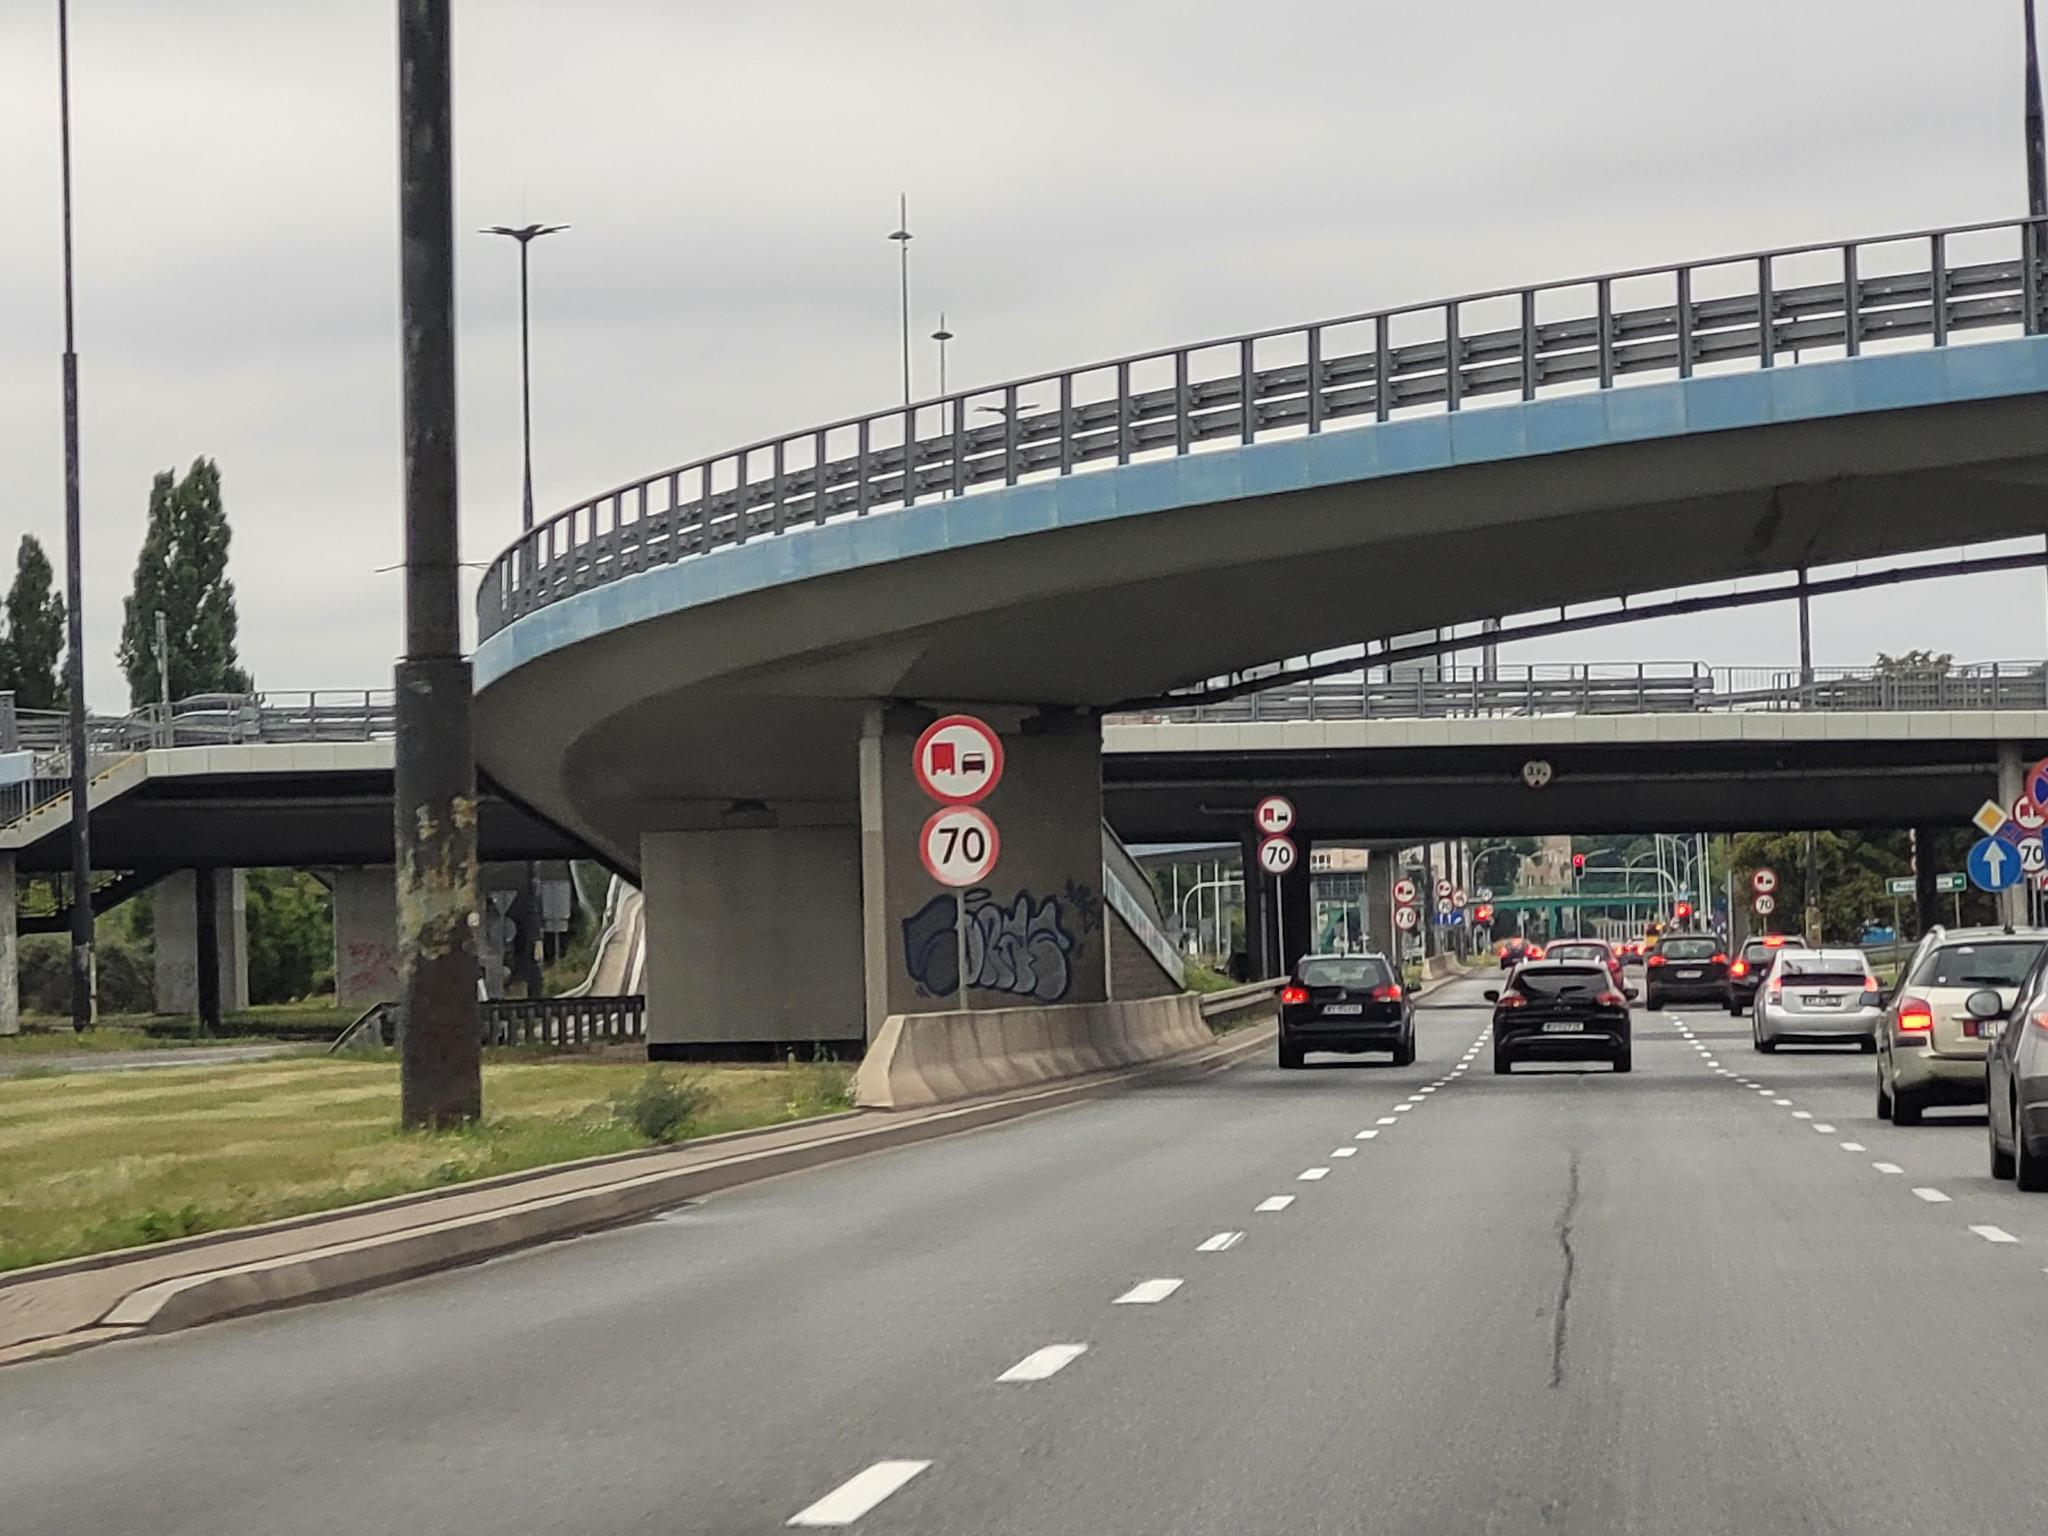direction-city: (1937, 874, 1966, 892), (1885, 878, 1916, 892)
information: (1972, 799, 2008, 836)
mandatory: (1966, 837, 2022, 891)
prohibitory: (913, 713, 1005, 805), (919, 803, 1001, 887), (1258, 836, 1298, 876), (1255, 797, 1297, 836), (2025, 755, 2048, 821), (2014, 794, 2046, 831), (2016, 836, 2046, 873), (1995, 820, 2025, 842), (1393, 879, 1417, 905), (1393, 907, 1417, 931), (1751, 870, 1777, 892), (1753, 894, 1777, 916)
